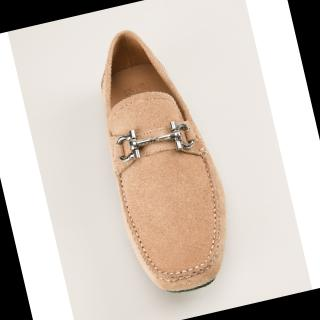loafers: (74, 12, 248, 308)
